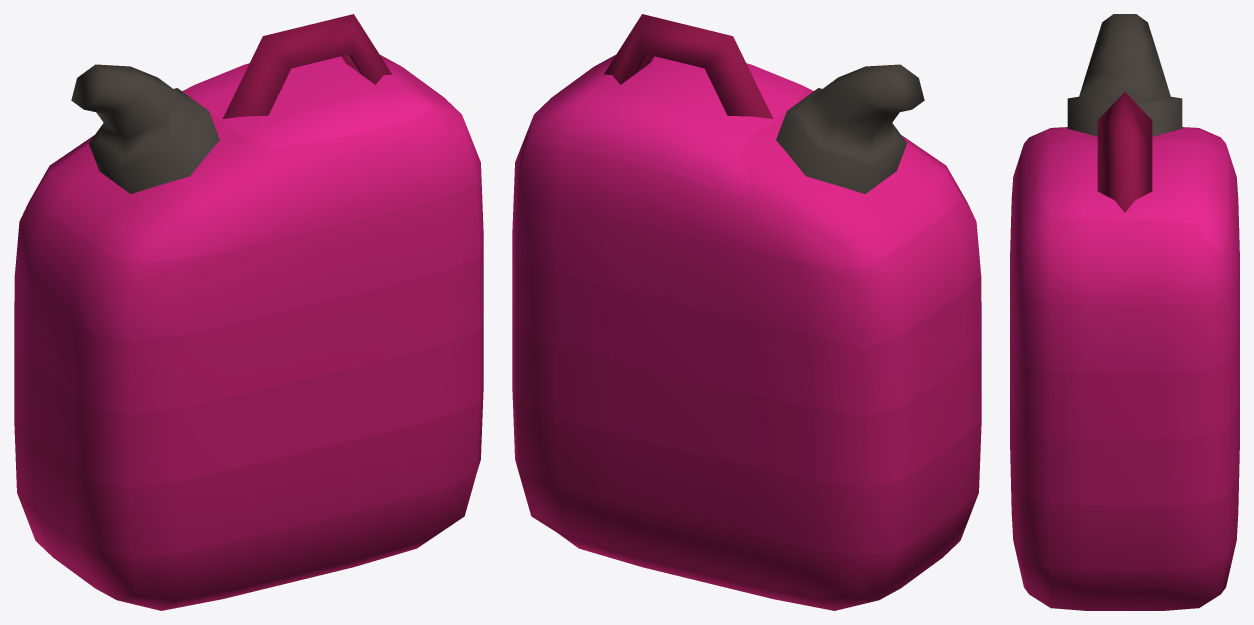
File: gas_can.glb
The picture shows the model from 3 angles, left to right: view 1: azimuth 30°, elevation 25°; view 2: azimuth 150°, elevation 25°; view 3: azimuth 270°, elevation 25°; orthographic projection. The views are drawn at different scales.
Parts seen in each view (by area): view 1: Cube; view 2: Cube; view 3: Cube.
Boxes of the visible parts, bbox=[...] form: Cube: bbox=[14, 14, 483, 610]; Cube: bbox=[512, 14, 981, 610]; Cube: bbox=[1010, 14, 1239, 610].
Bounding box in the file's own units: 1.44 × 1.83 × 0.8.
1 material, 1 textured.
